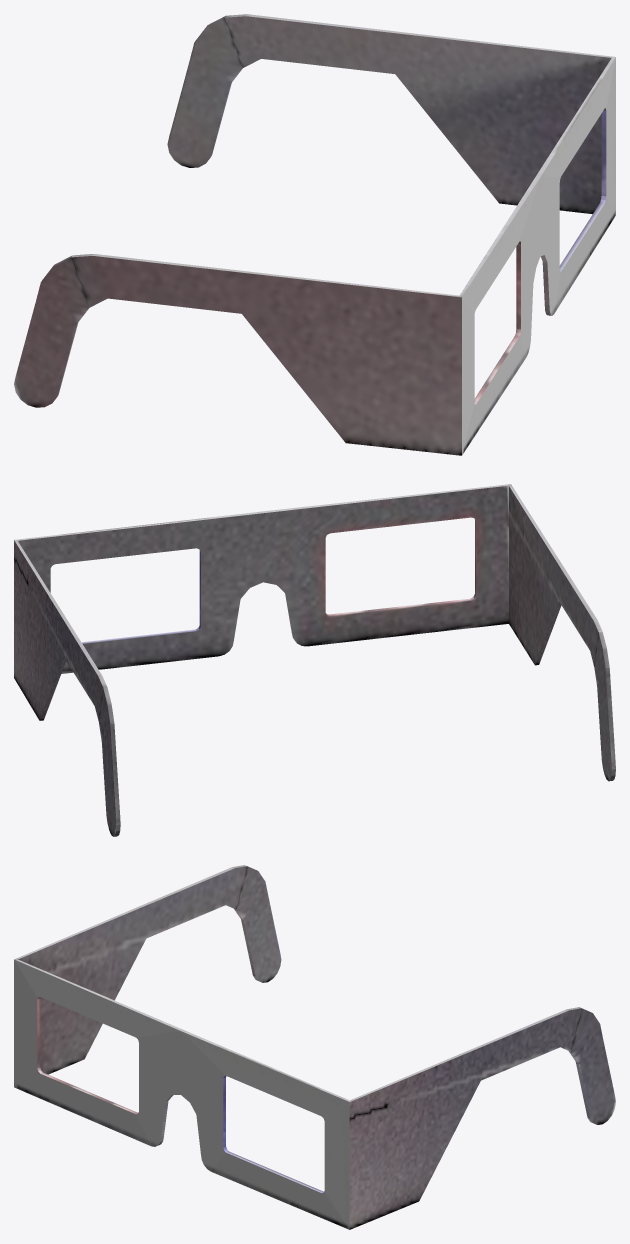
File: threed_glasses_frame.glb
The picture shows the model from 3 angles, top to bottom: view 1: azimuth 30°, elevation 25°; view 2: azimuth 150°, elevation 25°; view 3: azimuth 270°, elevation 25°; orthographic projection. The views are drawn at different scales.
Parts seen in each view (by area): view 1: threed_glasses_frame; view 2: threed_glasses_frame; view 3: threed_glasses_frame.
Boxes of the visible parts, box(x1,y1,x2,y2) form: threed_glasses_frame: box(14, 14, 615, 455); threed_glasses_frame: box(14, 484, 615, 836); threed_glasses_frame: box(14, 865, 615, 1229).
Bounding box in the file's own units: 2.07 × 0.486 × 2.07.
1 material, 1 textured.
